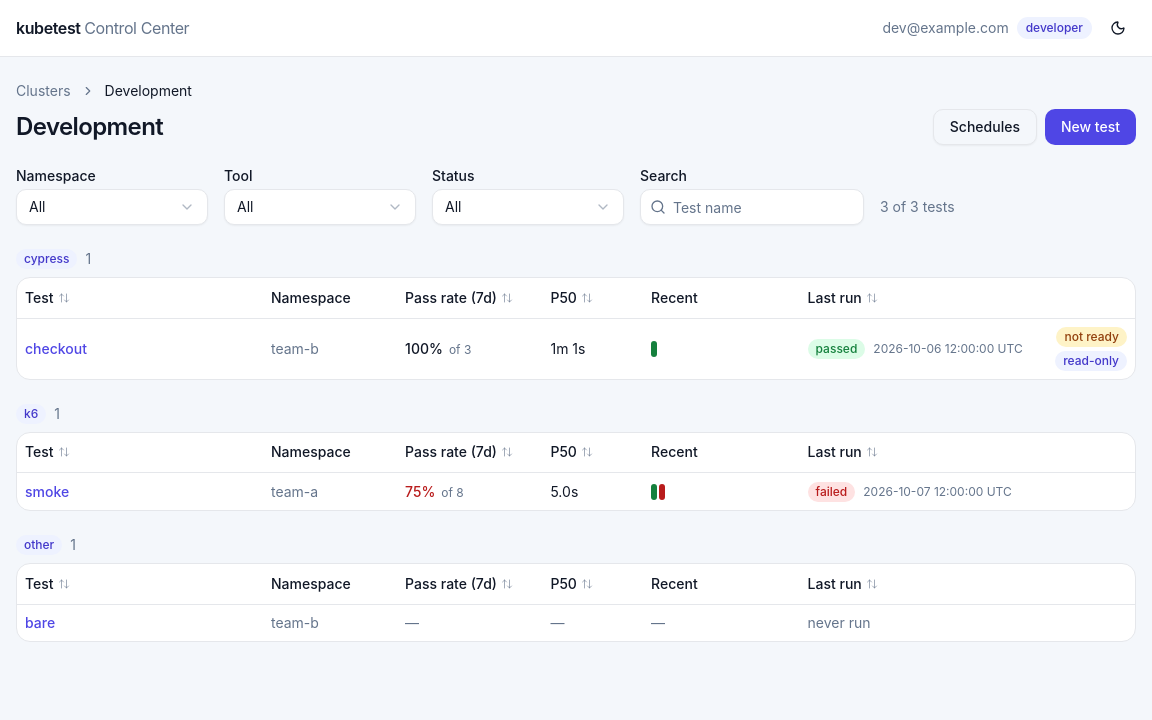
tests list › changes the filter in the address
Expected: the text "3 of 3 tests" is shown, [880,197,954,225]
Click the dropdown named "Tool".
click(320, 207)  # box [224,189,416,225]
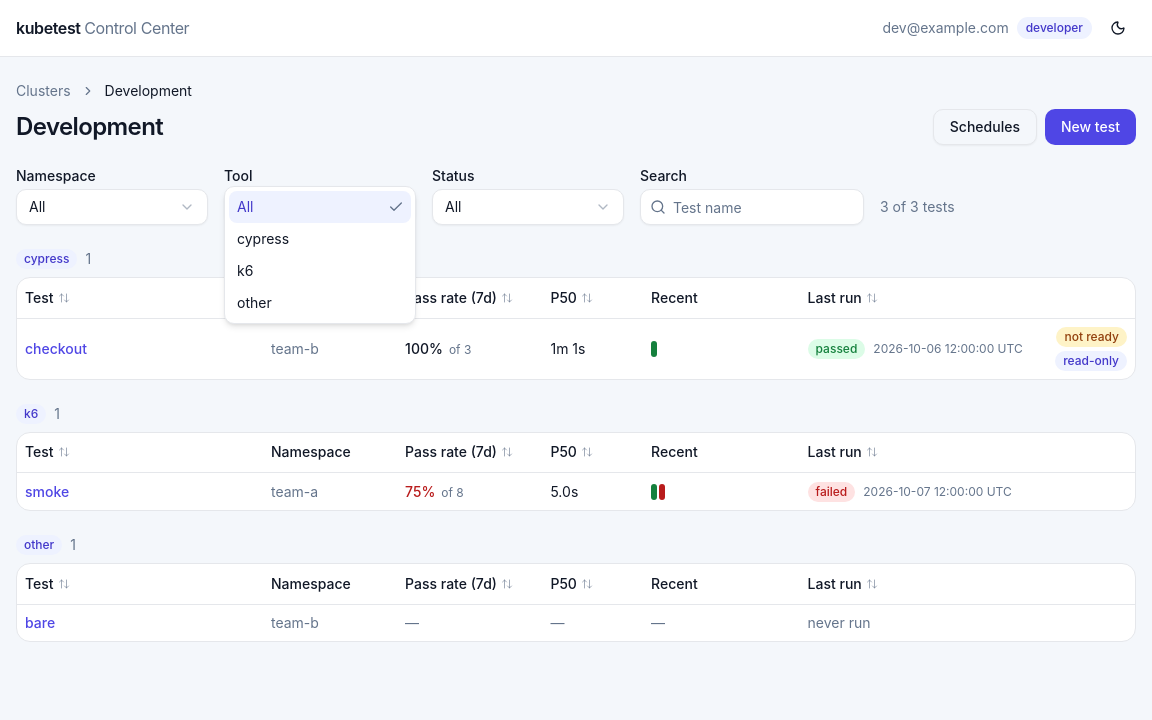
Click the option "k6".
click(245, 270)  # box [237,262,253,279]
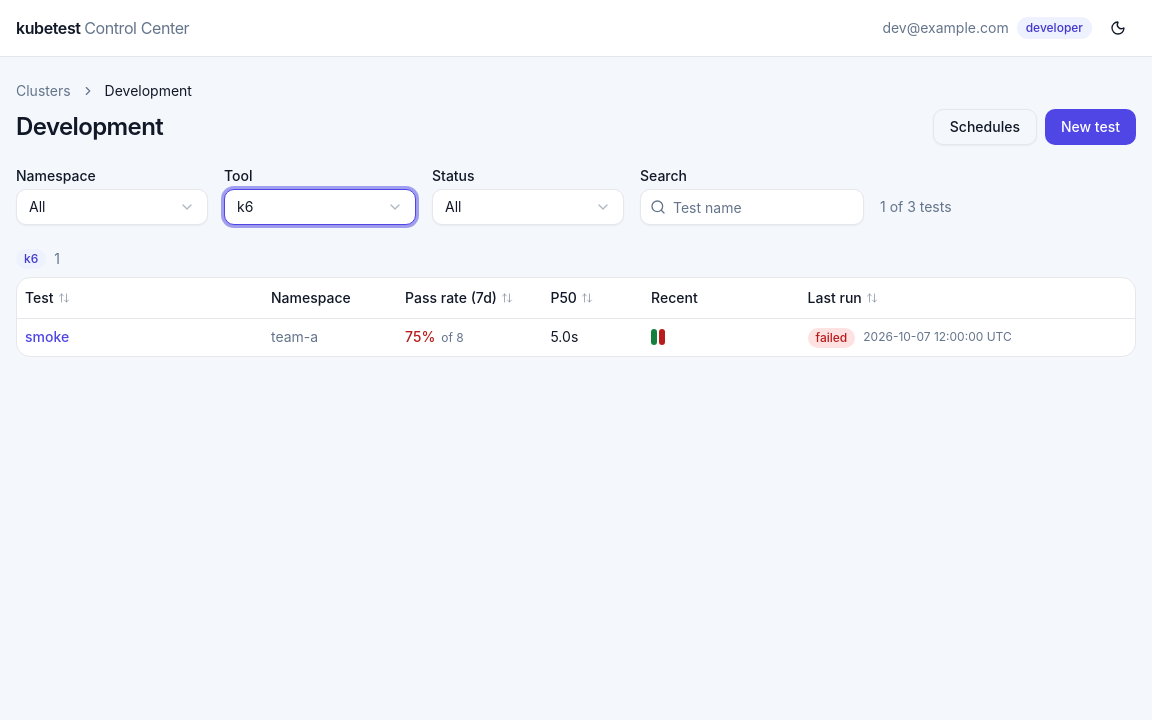
Now the text with test id "tests-count" reads "1 of 3 tests", box [880,197,952,225]
